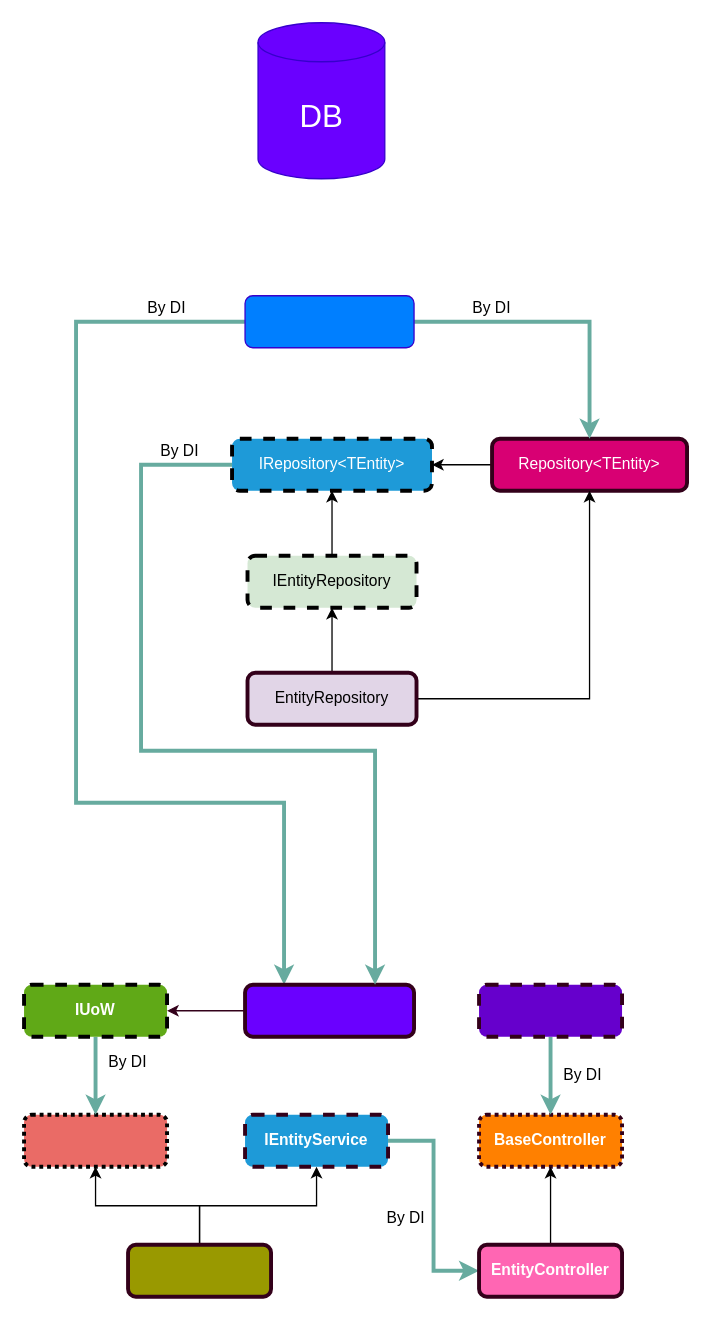
The diagram is 711 pixels wide and 1321 high, and some of its shapes have lost their labels. Here are the shapes that lost their labels. From the top down, the centre of each, then its label:
At (329,321): "DbContext".
At (328,1010): "UoW".
At (549,1010): "IMapper".
At (94,1140): "ServiceBase".
At (198,1270): "EntityService".
